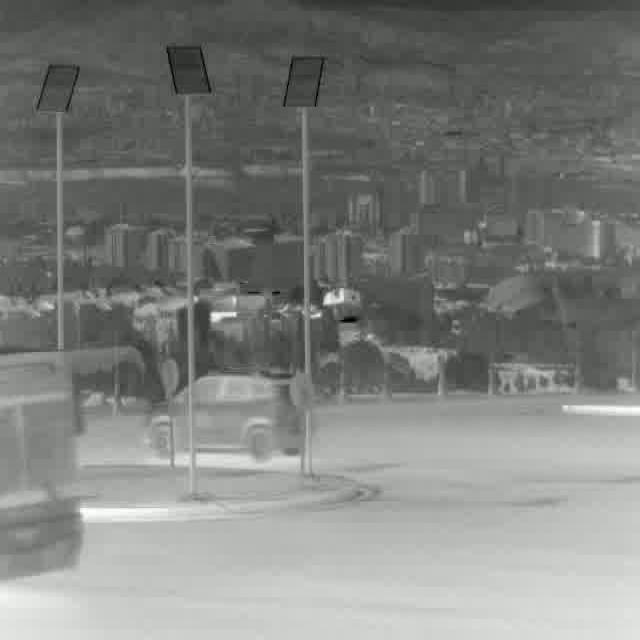Bus: (0, 350, 86, 573)
Car: (150, 366, 312, 458)
